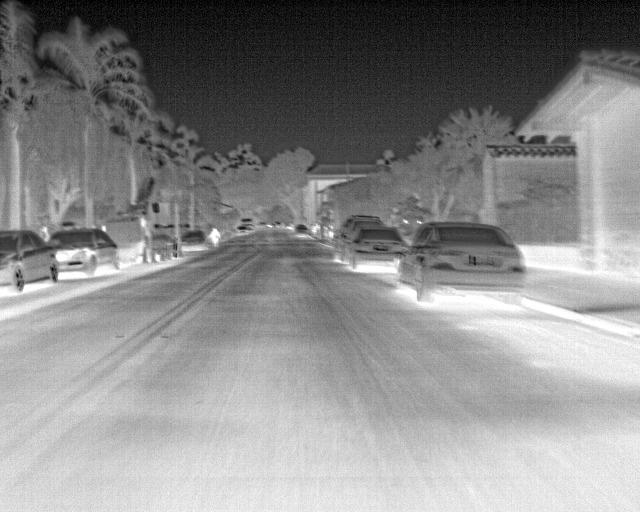bicycle: (392, 220, 526, 308), (42, 227, 119, 278), (1, 226, 59, 292), (340, 226, 407, 270), (332, 211, 384, 258), (176, 228, 210, 251), (289, 223, 308, 238)
empty: (207, 227, 223, 244)
